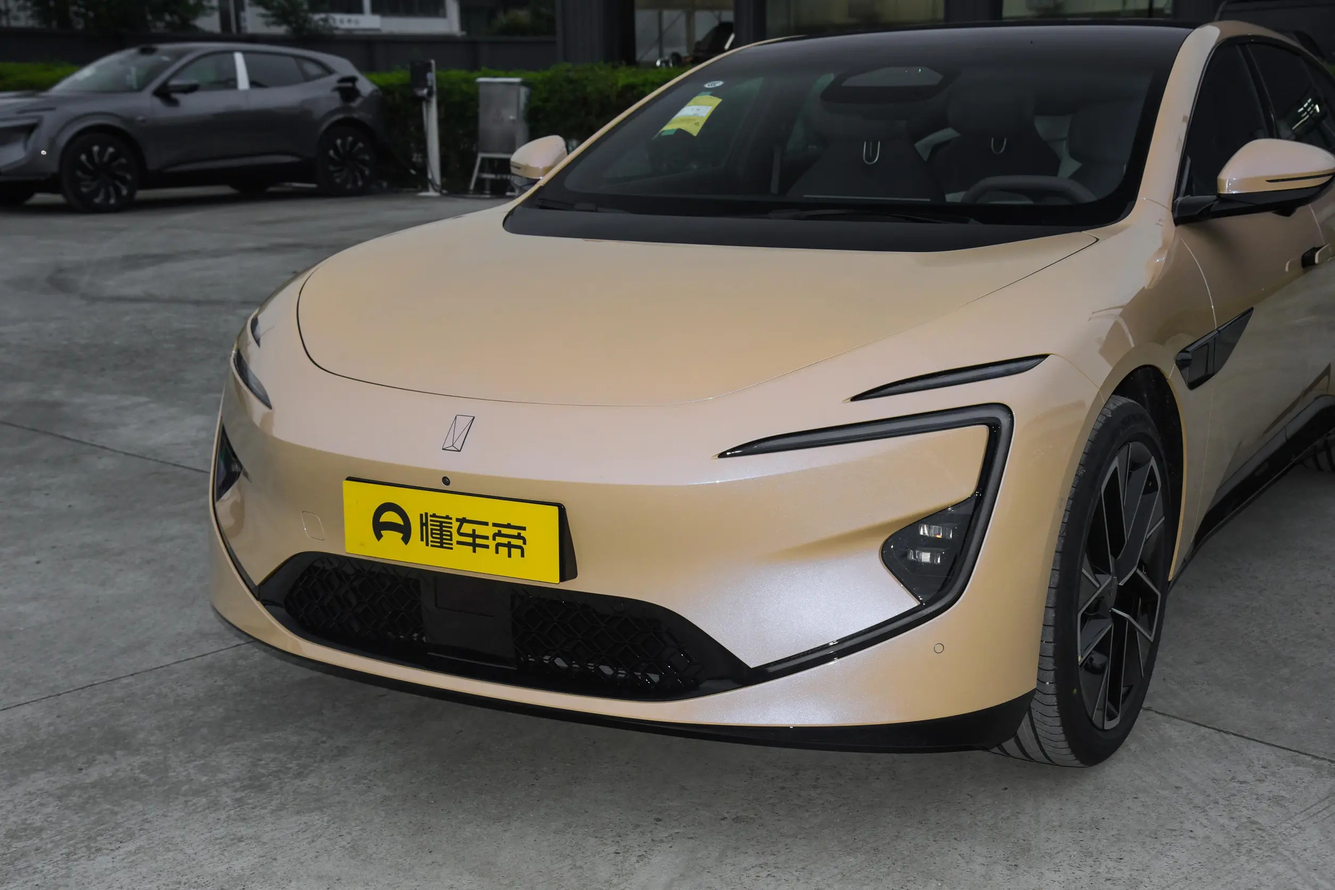AVATR: (442, 415, 475, 451)
